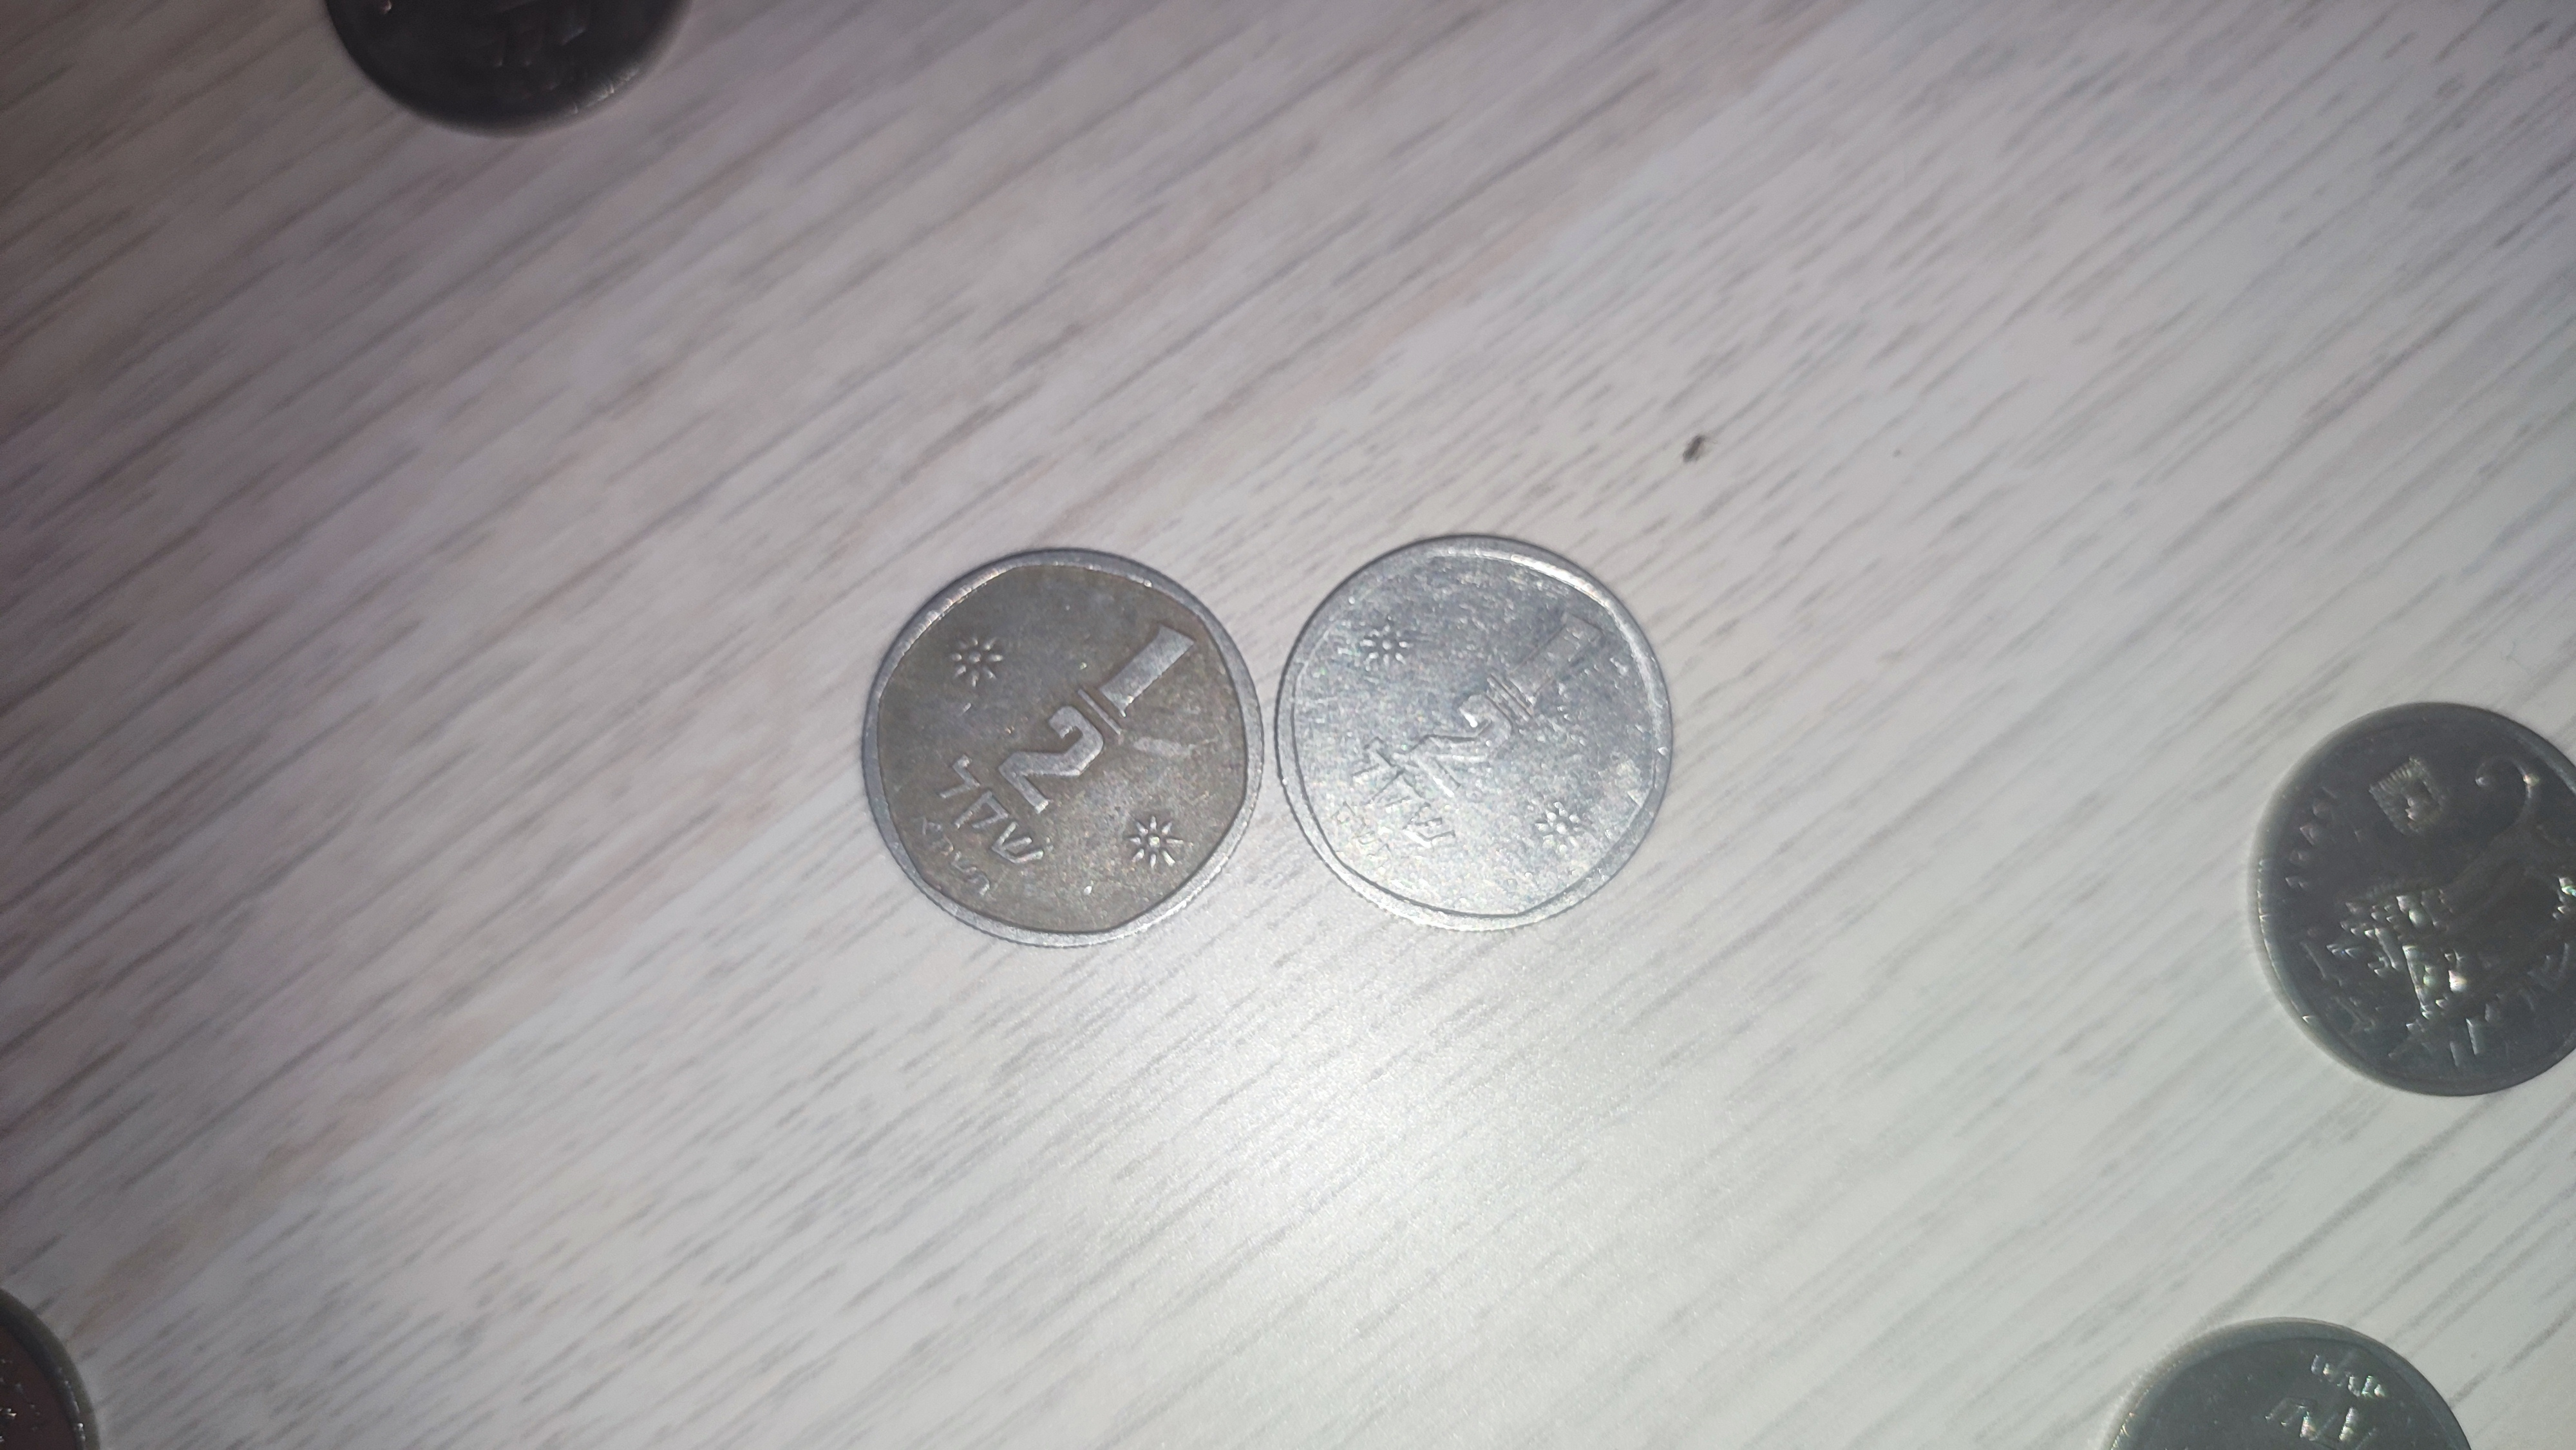1/2 old sheqel: (1261, 527, 1686, 943), (855, 541, 1276, 957), (2247, 691, 2576, 1102)
